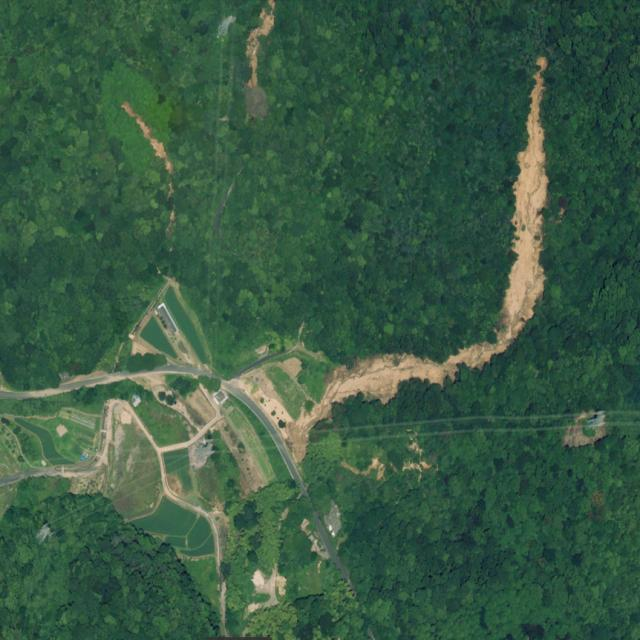landslide: (287, 56, 549, 461)
